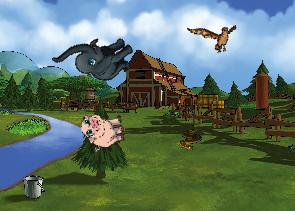eagle: (187, 11, 243, 61)
elephant: (51, 14, 140, 101)
pig: (79, 107, 127, 152)
